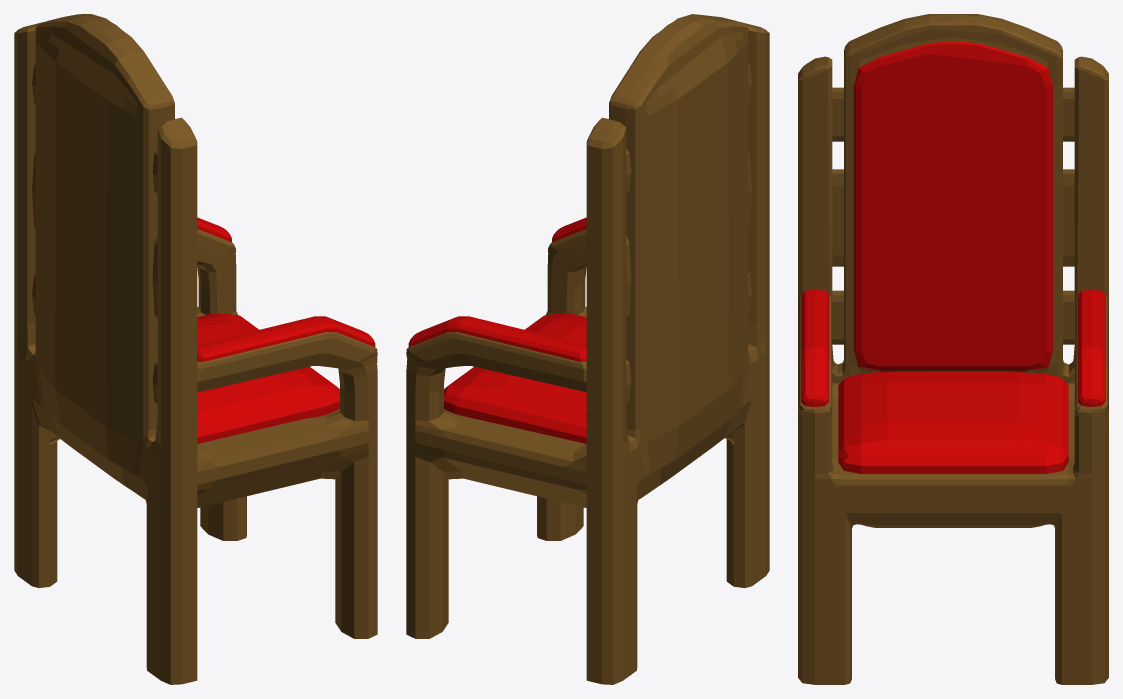
Rendered from High_Back-Chair.fbx.
3 views of the same model, side by side, from view 1: azimuth 30°, elevation 25°; view 2: azimuth 150°, elevation 25°; view 3: azimuth 270°, elevation 25° (orthographic). The views are drawn at different scales.
Visible parts, largest first — view 1: Cube.008; view 2: Cube.008; view 3: Cube.008.
Boxes of the visible parts, left/top/right/bottom form: Cube.008: left=14, top=14, right=377, bottom=684; Cube.008: left=406, top=14, right=769, bottom=684; Cube.008: left=798, top=14, right=1108, bottom=684.
Size of the model in its own units: 99.64 by 255 by 125.
